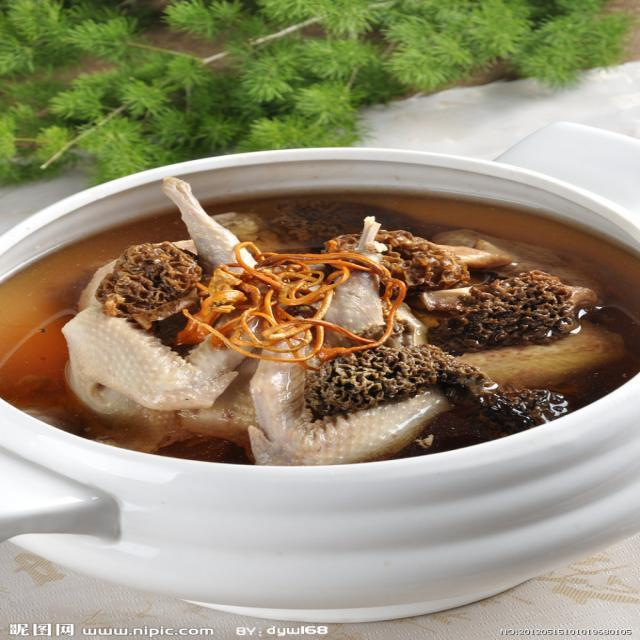Morchella esculenta: (309, 347, 562, 431), (423, 268, 584, 336), (102, 244, 206, 326)
